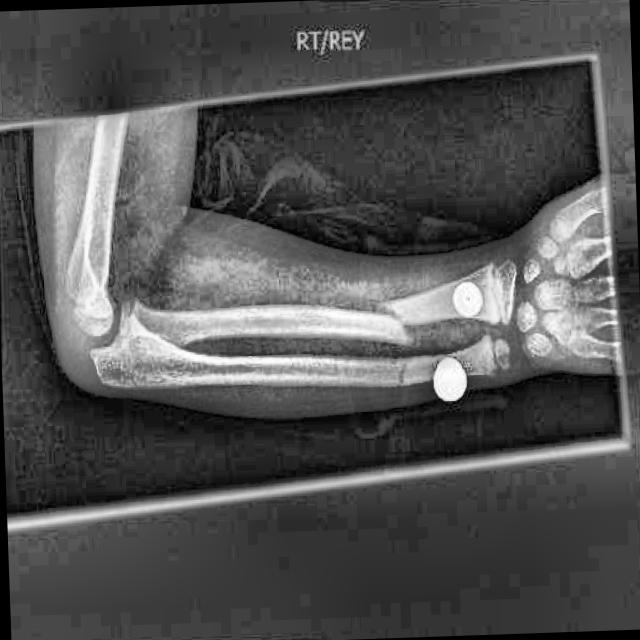forearm fracture: (332, 272, 439, 365), (373, 344, 441, 412)
